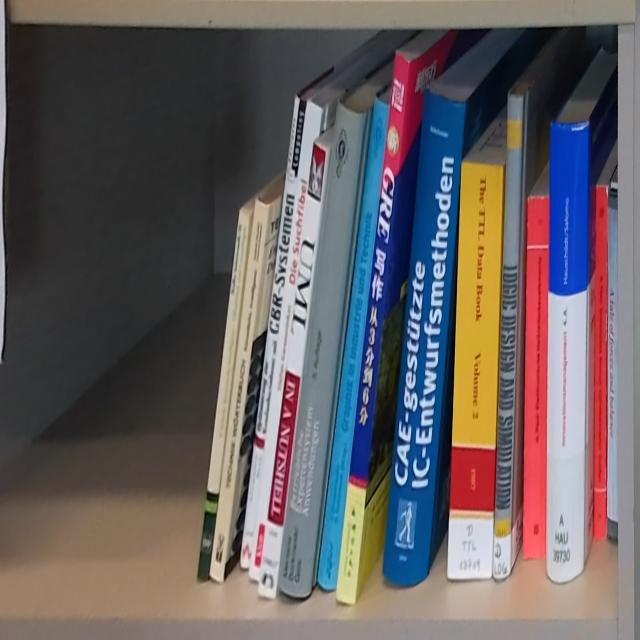Book Spine: (276, 101, 373, 600), (334, 51, 411, 606), (385, 88, 466, 591), (317, 91, 392, 596), (250, 104, 326, 587), (238, 91, 305, 575), (258, 144, 328, 605), (209, 195, 274, 588), (445, 164, 502, 584), (196, 206, 253, 586), (548, 118, 594, 588), (494, 87, 527, 583), (522, 197, 548, 562), (593, 185, 608, 544), (606, 182, 618, 544)
